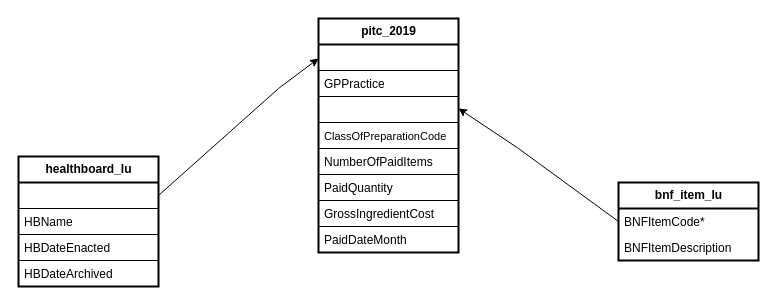
This 776x306 diagram has some shape labels left out. Each missing label, with the centre of its shape:
"BNFItemCode**" goes at (x=388, y=109).
"HB*" goes at (x=88, y=195).
"HBT**" goes at (x=388, y=57).
